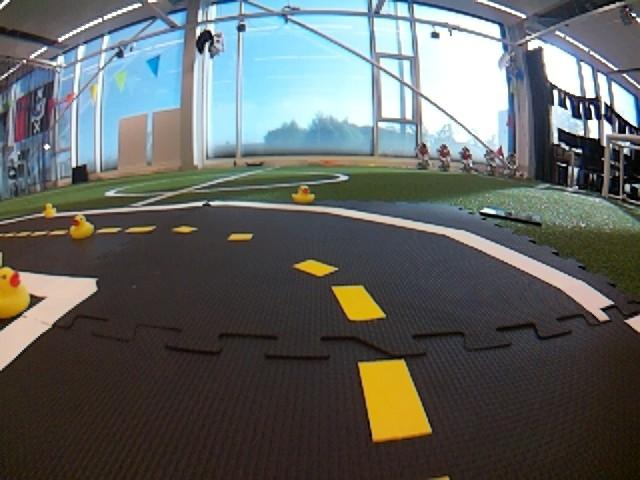Duckies: (0, 266, 31, 319), (69, 215, 94, 239), (292, 185, 315, 203), (44, 203, 57, 218)
